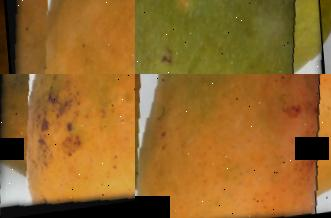PartiallyRipe: (135, 74, 331, 218), (0, 0, 135, 74)
Ripe: (0, 74, 135, 218)
Unripe: (135, 0, 327, 74)
